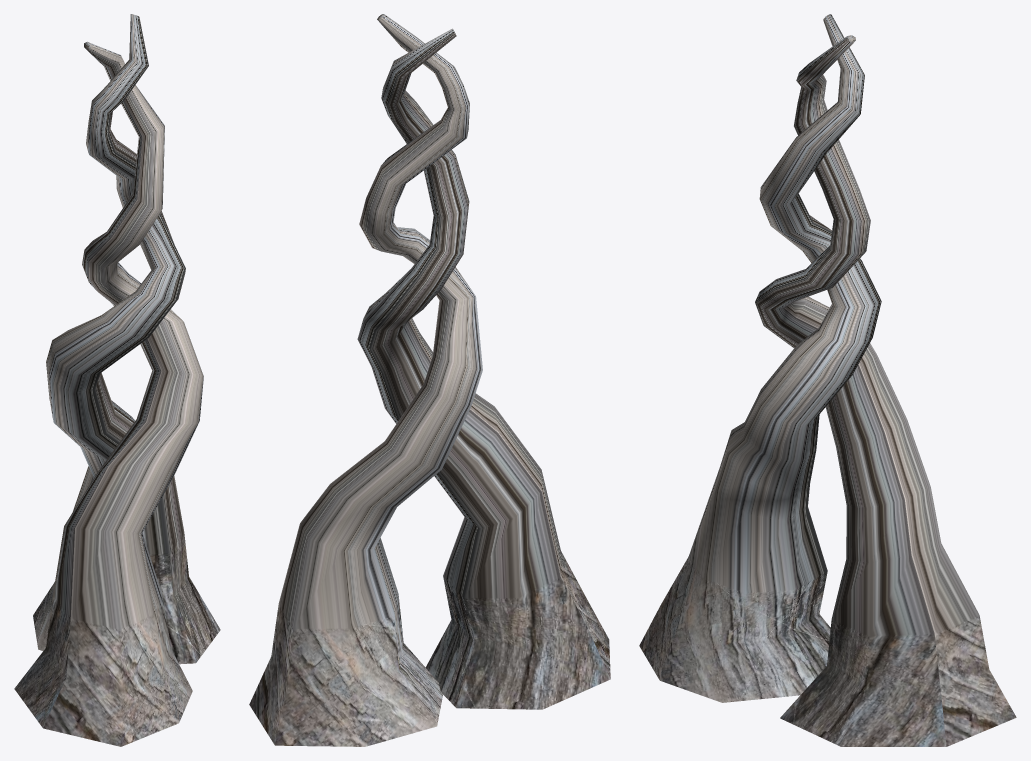
Rendered from Level2 trees.fbx.
3 views of the same model, side by side, from view 1: azimuth 30°, elevation 25°; view 2: azimuth 150°, elevation 25°; view 3: azimuth 270°, elevation 25° (orthographic). The views are drawn at different scales.
Visible parts, largest first — view 1: Cylinder.017; view 2: Cylinder.017; view 3: Cylinder.017.
Boxes of the visible parts, x1=… form: Cylinder.017: x1=14, y1=14, x2=220, y2=746; Cylinder.017: x1=249, y1=14, x2=610, y2=746; Cylinder.017: x1=639, y1=14, x2=1016, y2=746.
Bounding box in the file's own units: 404 × 1043 × 533.
